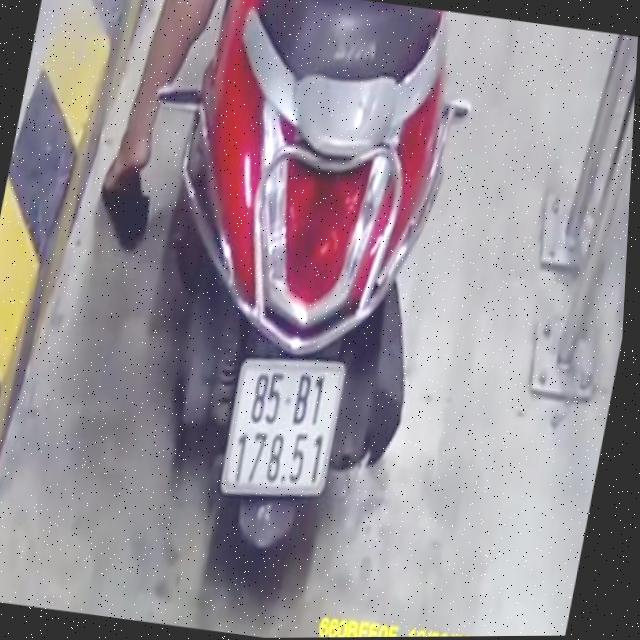motorcycle: (87, 0, 492, 600)
plate: (211, 346, 353, 510)
